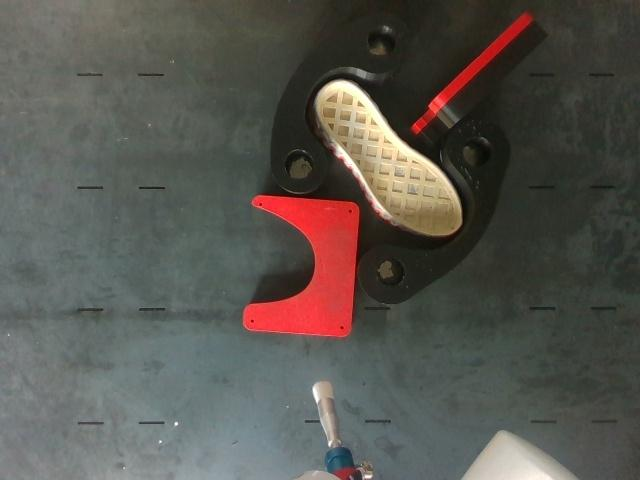shoes: (317, 82, 461, 235)
